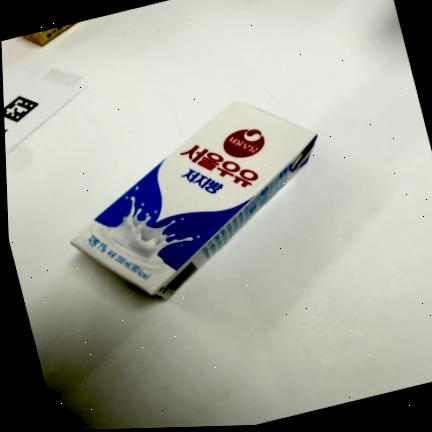milk_blue: (71, 102, 317, 299)
